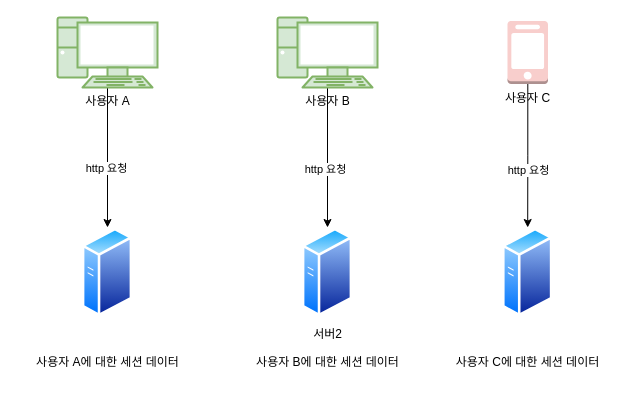
The diagram is 635 pixels wide and 395 high, and some of its shapes have lost their labels. Here are the shapes that lost their labels. From the top down, the centre of each, then its label:
pixel 107 272: 서버1
pixel 527 272: 서버3
